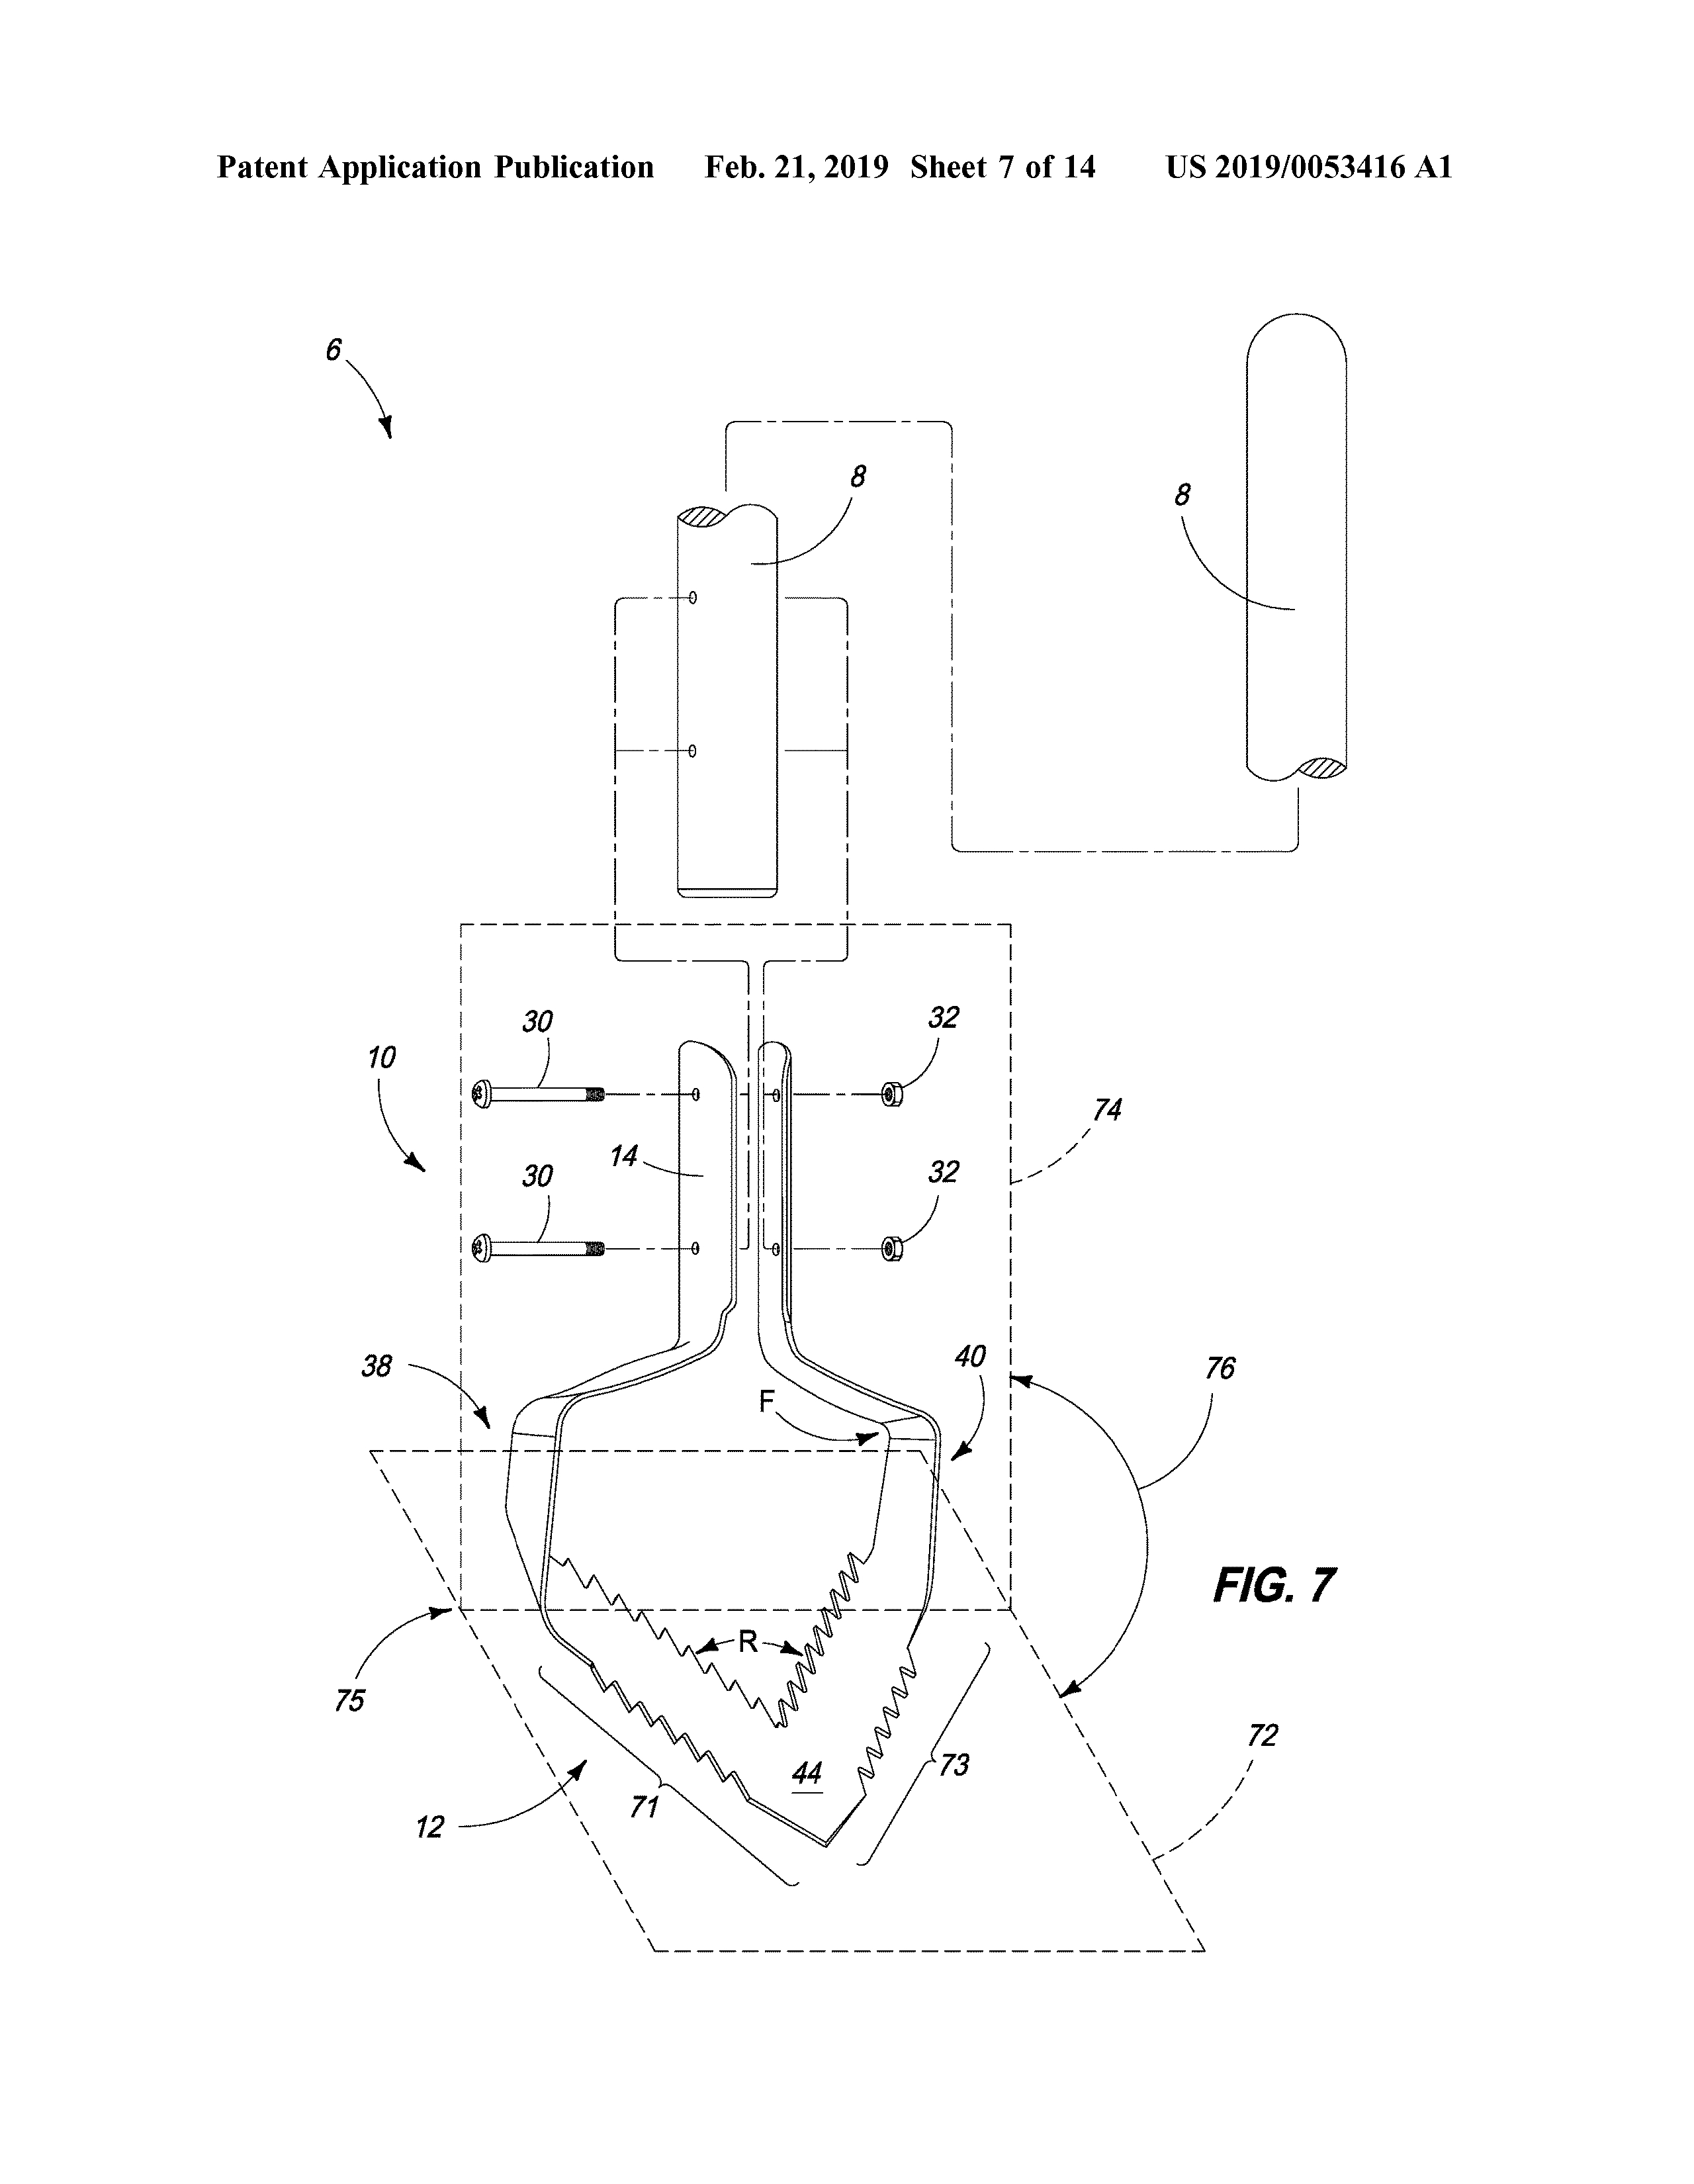10: (358, 1030, 425, 1099)
12: (395, 1789, 464, 1858)
14: (597, 1117, 666, 1186)
30: (503, 989, 572, 1058), (797, 794, 865, 863)
32: (913, 986, 982, 1055)
38: (353, 1335, 422, 1404)
40: (909, 1140, 978, 1209), (939, 1322, 1006, 1390)
44: (776, 1743, 845, 1812)
6: (301, 317, 370, 386)
71: (611, 1778, 680, 1847)
72: (1232, 1698, 1301, 1767)
73: (918, 1734, 985, 1803)
74: (1074, 1080, 1143, 1147)
75: (308, 1665, 377, 1732)
76: (1193, 1340, 1262, 1409)
8: (1152, 468, 1221, 537), (829, 448, 897, 518)
80: (509, 1145, 578, 1214)
F: (734, 1367, 803, 1434)
R: (711, 1610, 780, 1677)
